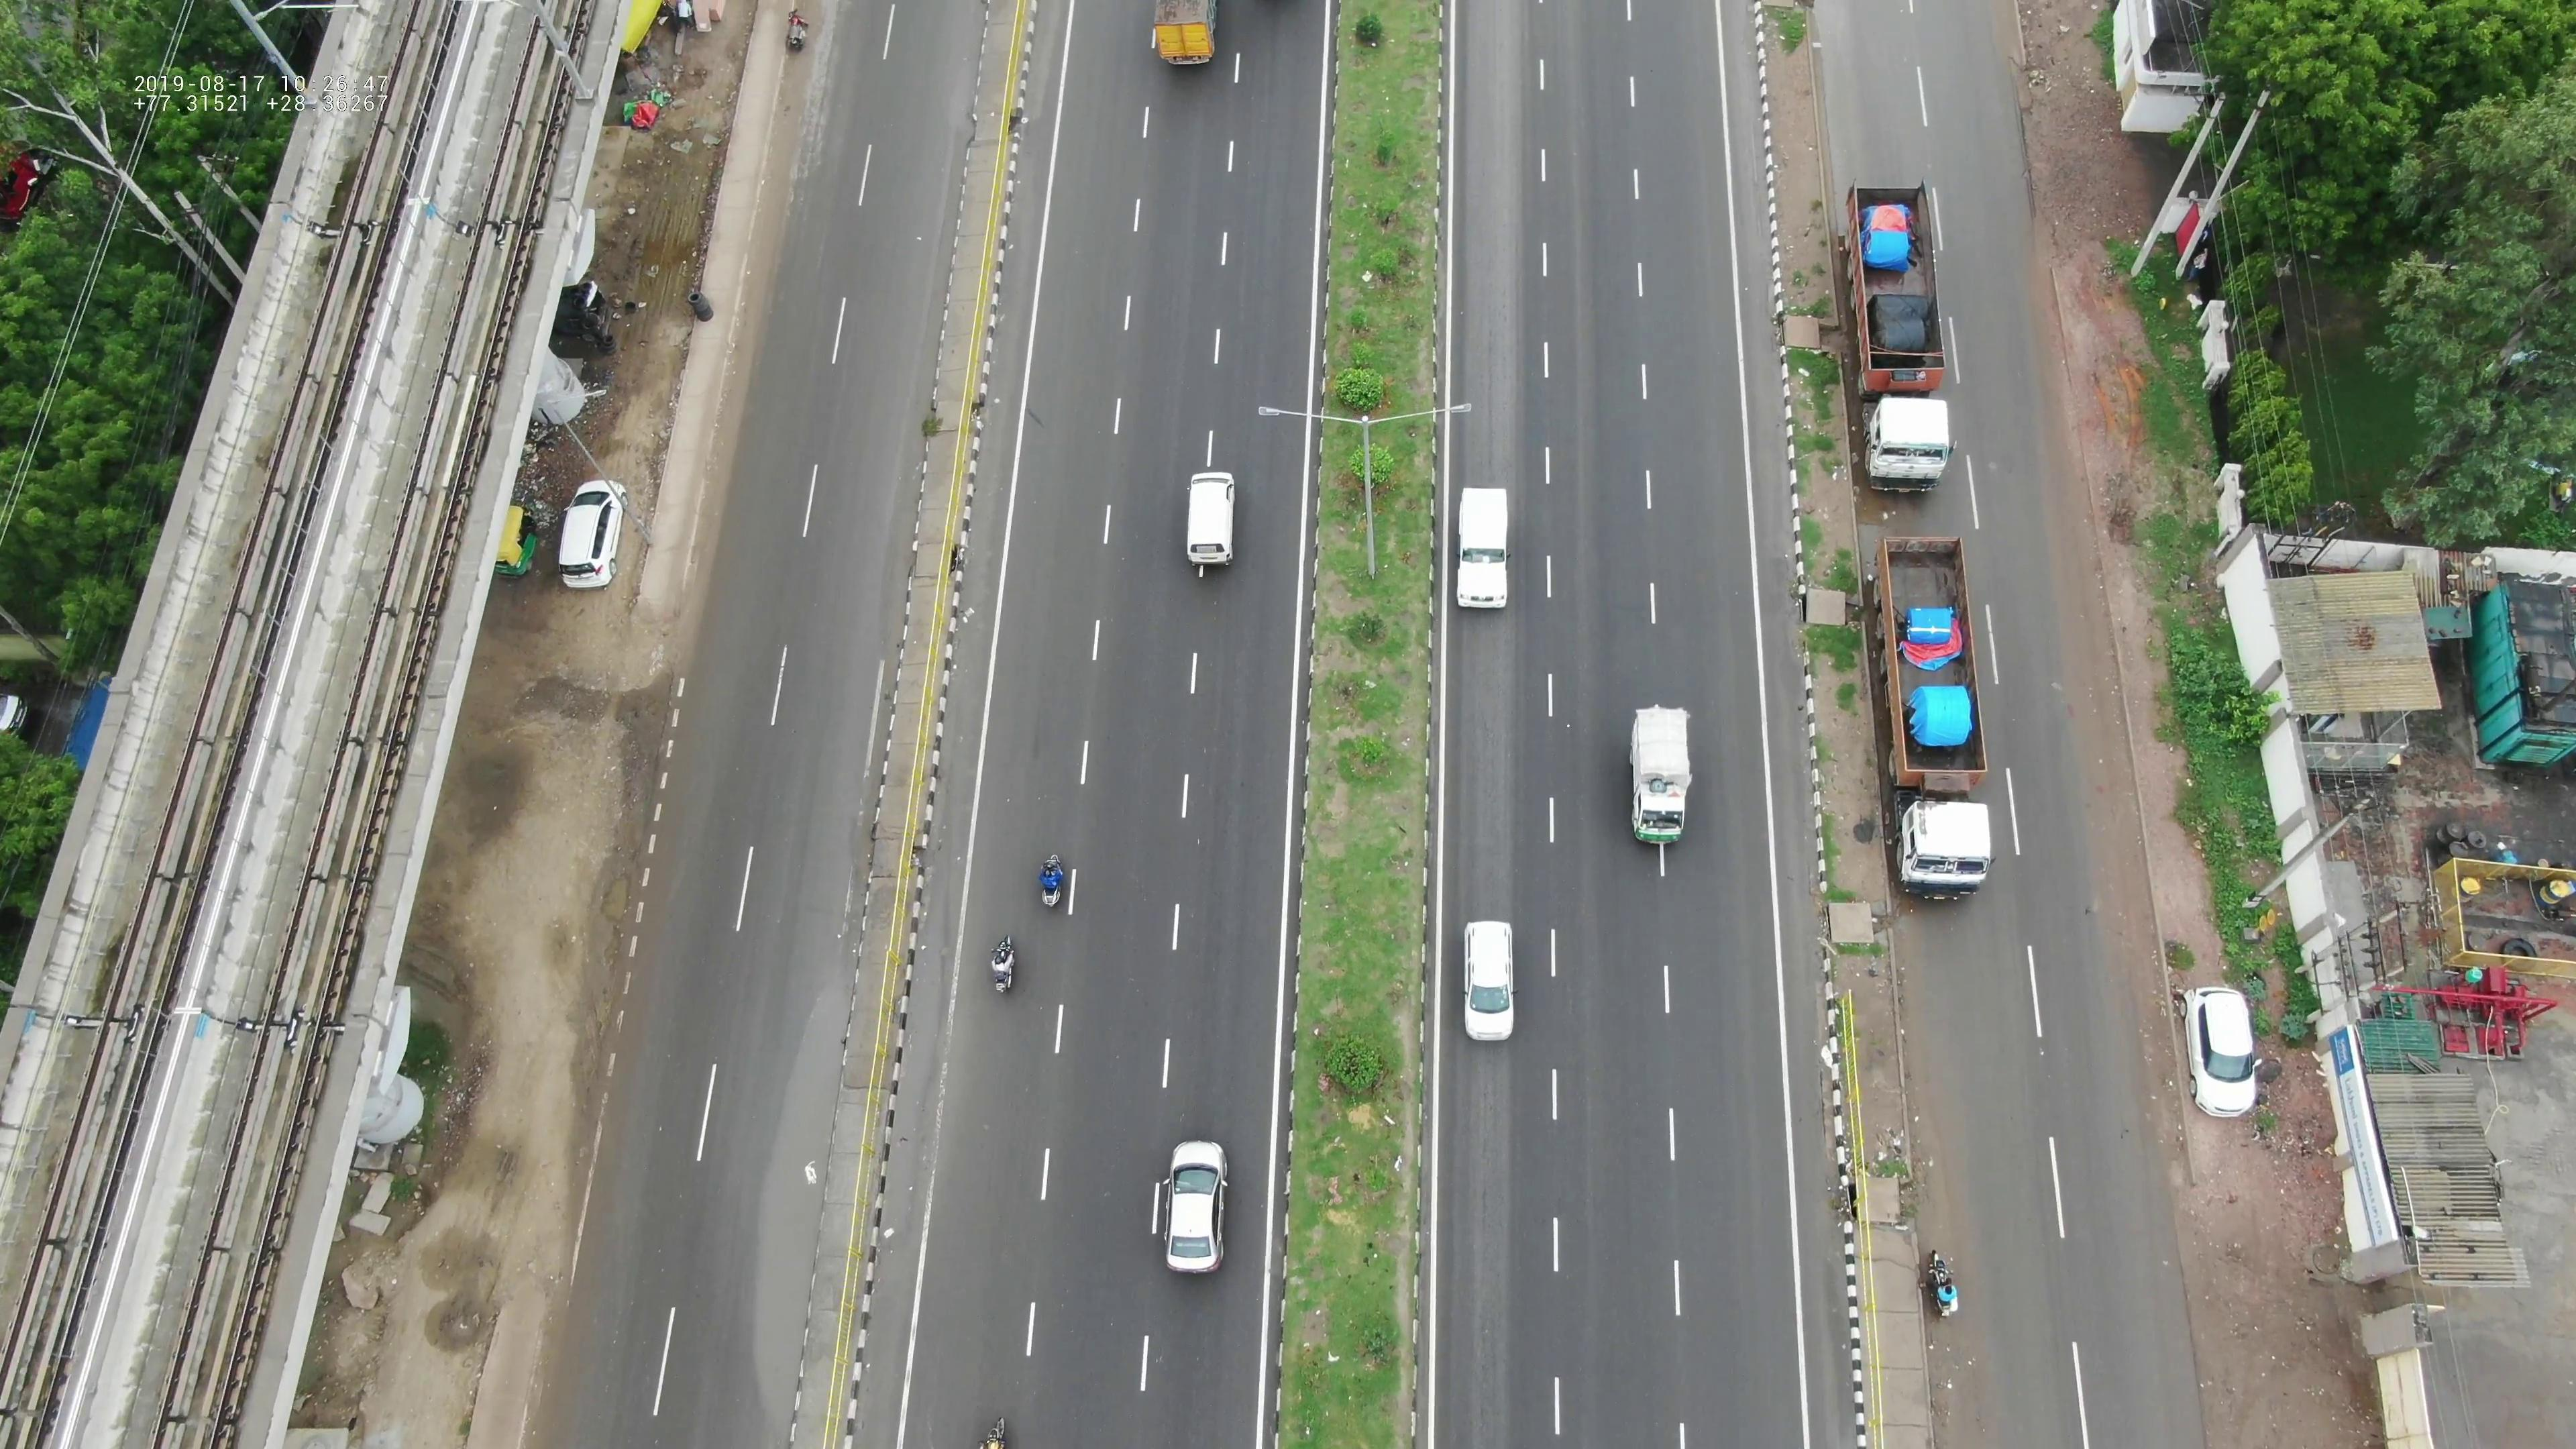Muddy_road: (2051, 609, 2137, 931)
